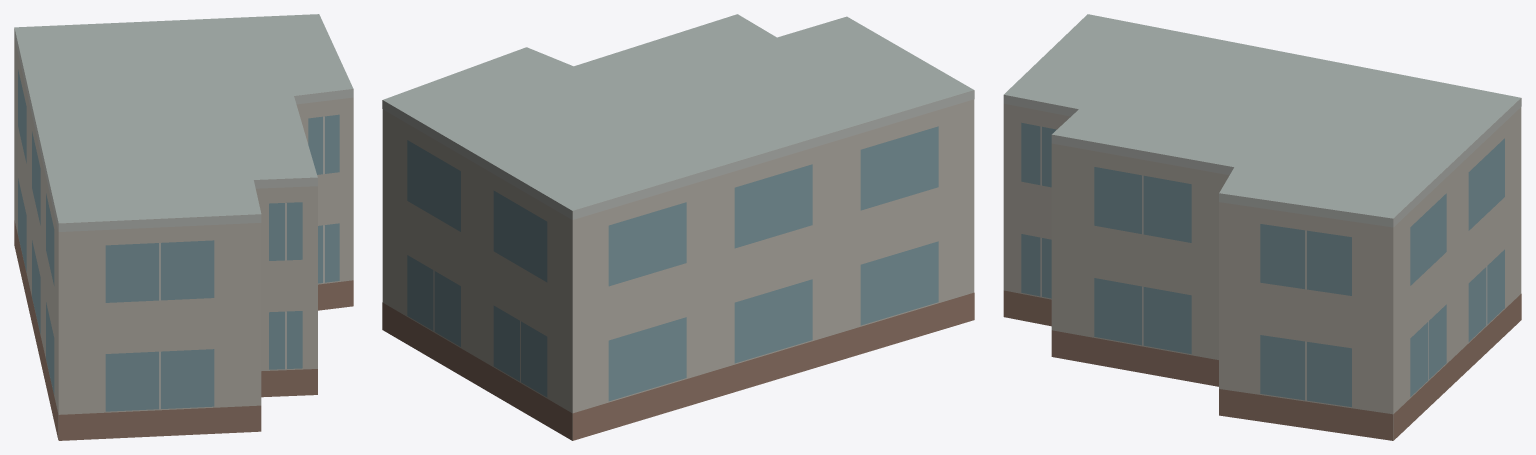
File: survey-upis-32805543.glb
3 views of the same model, side by side, from view 1: azimuth 30°, elevation 25°; view 2: azimuth 150°, elevation 25°; view 3: azimuth 270°, elevation 25° (orthographic). The views are drawn at different scales.
Parts seen in each view (by area): view 1: survey-upis-32805543.tmp; view 2: survey-upis-32805543.tmp; view 3: survey-upis-32805543.tmp.
Part boxes in pixels (box(x1,y1,x2,y2)): survey-upis-32805543.tmp: box(14, 14, 353, 440); survey-upis-32805543.tmp: box(382, 14, 974, 440); survey-upis-32805543.tmp: box(1003, 14, 1521, 440).
Size of the model in its own units: 12.05 by 6.1 by 12.89.
